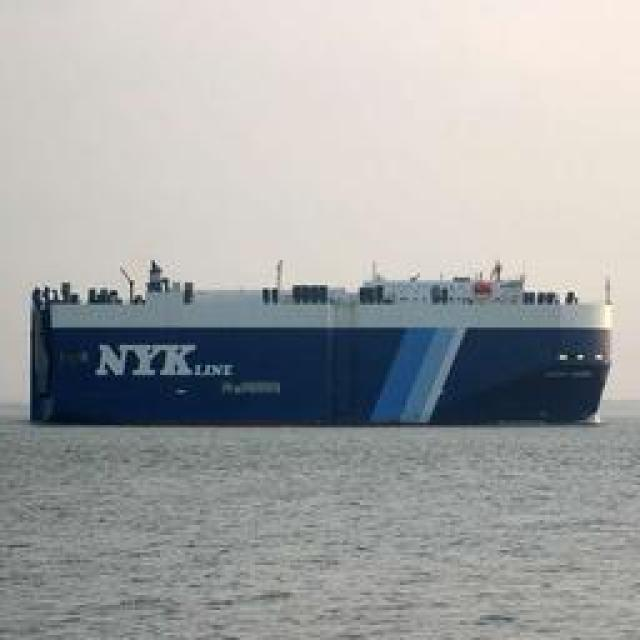CIV_Ship: (17, 254, 625, 432)
